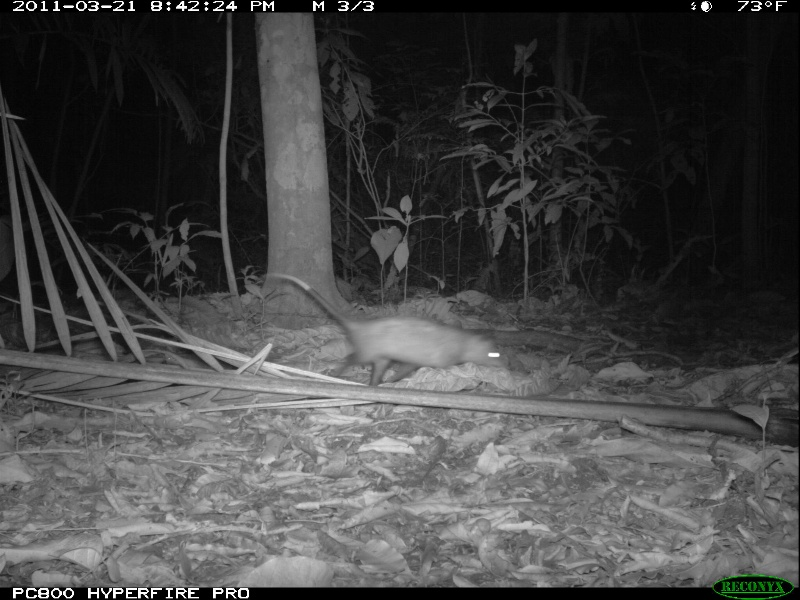opossum: (264, 268, 512, 385)
